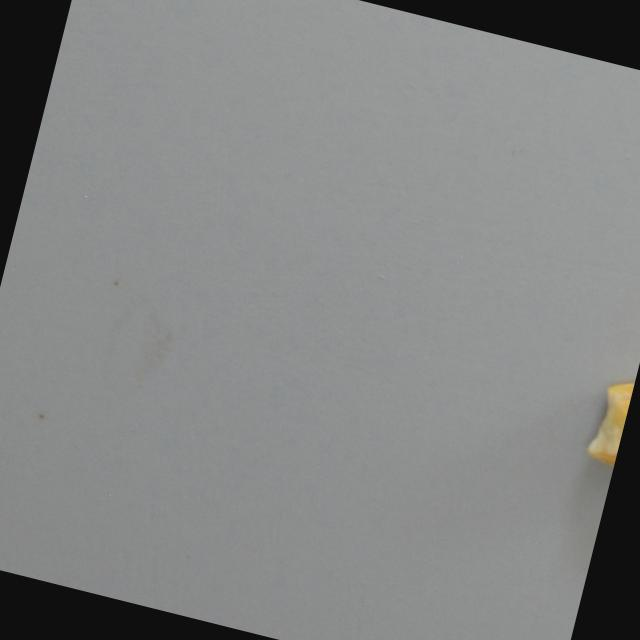dañado: (577, 363, 637, 475)
